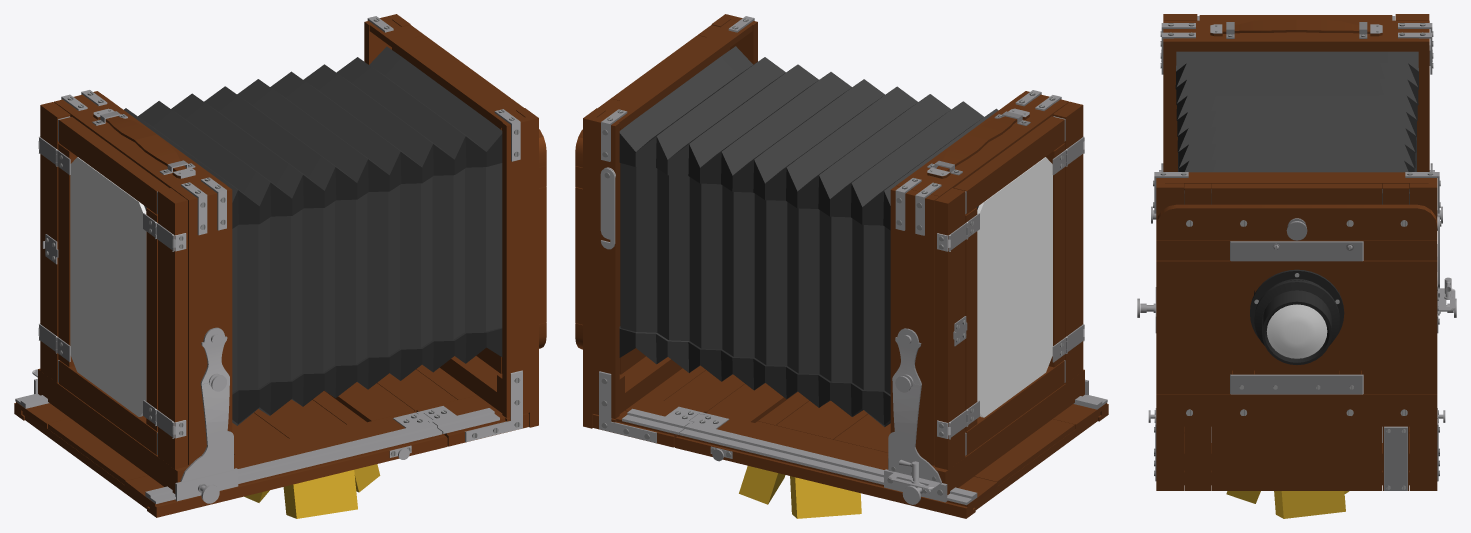
File: camera_part1.fbx
The picture shows the model from 3 angles, left to right: view 1: azimuth 30°, elevation 25°; view 2: azimuth 150°, elevation 25°; view 3: azimuth 270°, elevation 25°; orthographic projection.
Visible parts, largest first — view 1: Cube.005, Cube.042, Cube.043, Cube.021, Cube.024, Cube.002, Cube.013, Cube.022, Cube.023, Cube.025, Cube.034, Cube.020 (+24 smaller); view 2: Cube.005, Cube.042, Cube.043, Cube.021, Cube.024, Cube.013, Cube.002, Cube.022, Cube.023, Cube.025, Cube.034, Cube.020 (+26 smaller); view 3: Cube.042, Cube.027, Cube.028, Cube.012, Cube.003, Cube.031, Cube.001, Cube.010, Cube.029, Cube.011, Cube.030, Cube.024 (+13 smaller).
Part boxes in pixels (box(x1,y1,x2,y2)): Cube.005: box(144, 163, 502, 425); Cube.042: box(124, 46, 502, 423); Cube.043: box(70, 157, 146, 416); Cube.021: box(40, 102, 187, 469); Cube.024: box(54, 91, 232, 464); Cube.002: box(364, 16, 529, 417); Cube.013: box(14, 402, 447, 517); Cube.022: box(59, 117, 169, 455); Cube.023: box(58, 143, 157, 431); Cube.025: box(324, 365, 476, 422); Cube.034: box(15, 394, 442, 503); Cube.020: box(232, 391, 363, 451); Cube.005: box(620, 163, 978, 426); Cube.042: box(619, 46, 998, 424); Cube.043: box(977, 157, 1052, 417); Cube.021: box(935, 101, 1083, 469); Cube.024: box(890, 91, 1069, 465); Cube.013: box(674, 403, 1108, 518); Cube.002: box(592, 16, 757, 418); Cube.022: box(954, 116, 1064, 455); Cube.023: box(965, 143, 1065, 431); Cube.025: box(645, 365, 796, 422); Cube.034: box(679, 395, 1107, 505); Cube.020: box(758, 392, 890, 452); Cube.042: box(1175, 51, 1418, 204); Cube.027: box(1156, 204, 1437, 426); Cube.028: box(1156, 260, 1437, 374); Cube.012: box(1211, 183, 1381, 490); Cube.003: box(1156, 240, 1437, 394); Cube.031: box(1230, 241, 1363, 394); Cube.001: box(1174, 20, 1418, 51); Cube.010: box(1156, 183, 1437, 490); Cube.029: box(1232, 261, 1360, 374); Cube.011: box(1184, 183, 1409, 490); Cube.030: box(1254, 261, 1339, 374); Cube.024: box(1163, 20, 1429, 171).
Size of the model in its own units: 360 by 315 by 233.
